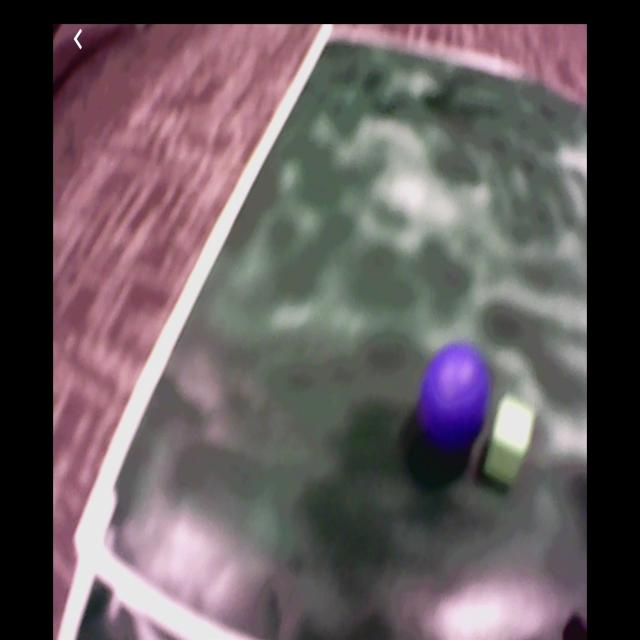ball: (421, 343, 491, 446)
